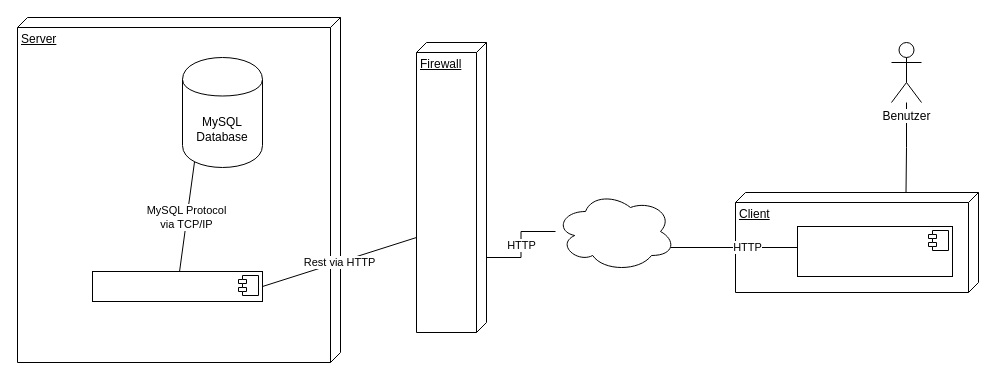
Image size: 996x380. Some labels were removed from this diagram. Here are the shapes that lost their labels. From the top down, the centre of each, then its label:
pixel 615 231: Internet
pixel 874 251: <<Component>> Browser
pixel 177 286: Cronus Application
